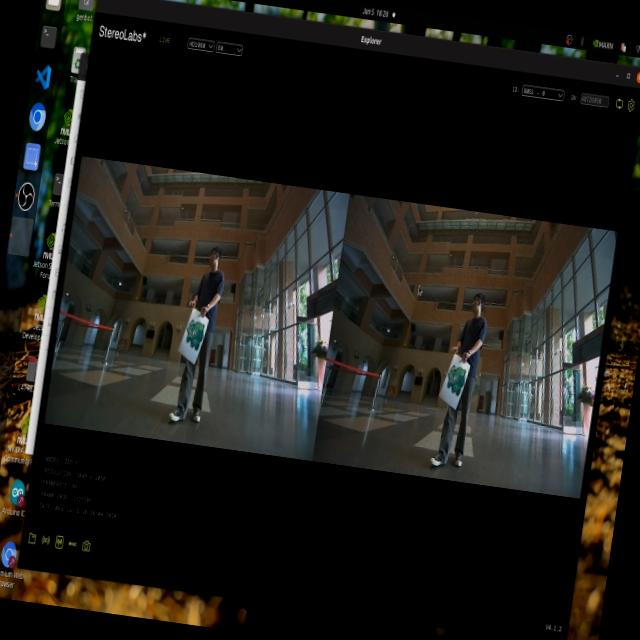green: (438, 354, 472, 406), (178, 318, 214, 361)
